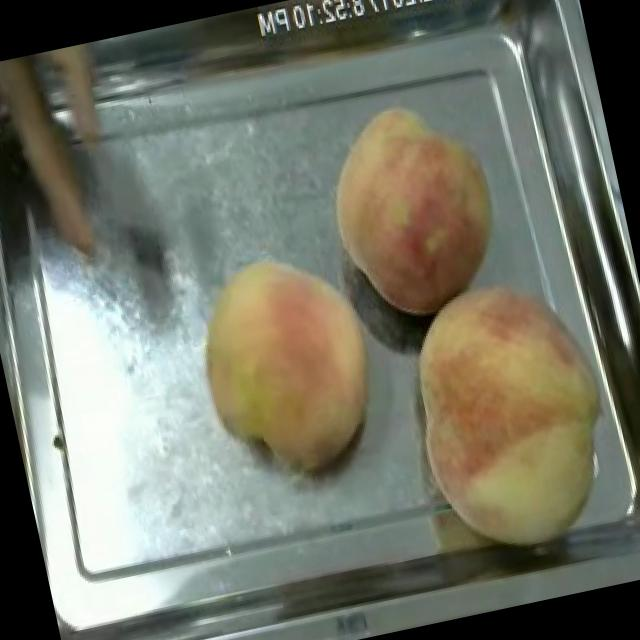Fruit: (380, 249, 640, 576), (175, 232, 402, 492), (303, 79, 522, 337)
